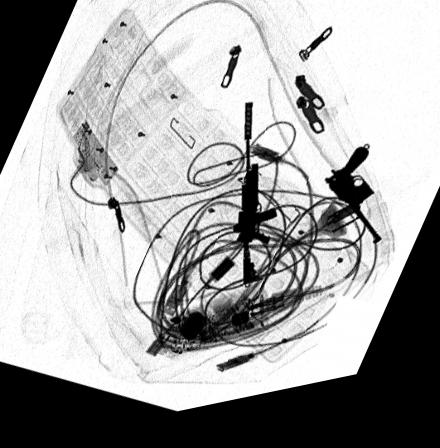Gun: (232, 112, 278, 295), (322, 159, 383, 258)
